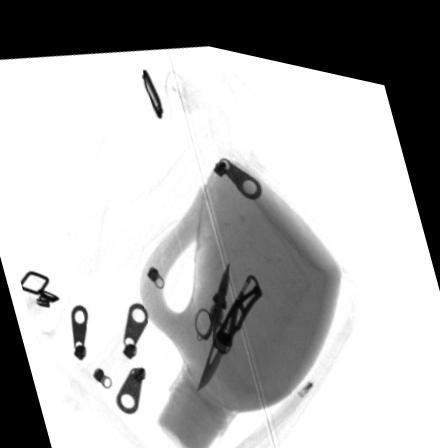Knife: (196, 260, 263, 381)
Scissors: (193, 251, 234, 343)
